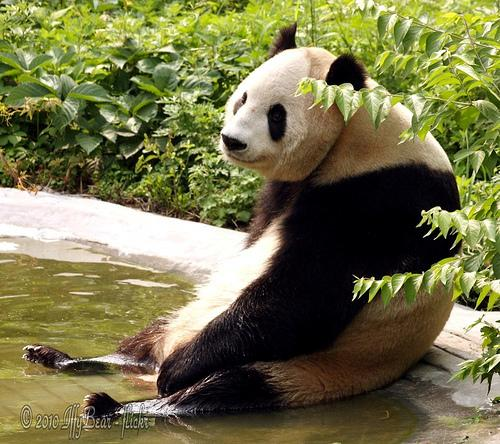panda: (82, 24, 460, 414), (24, 345, 78, 370), (85, 392, 124, 415)
